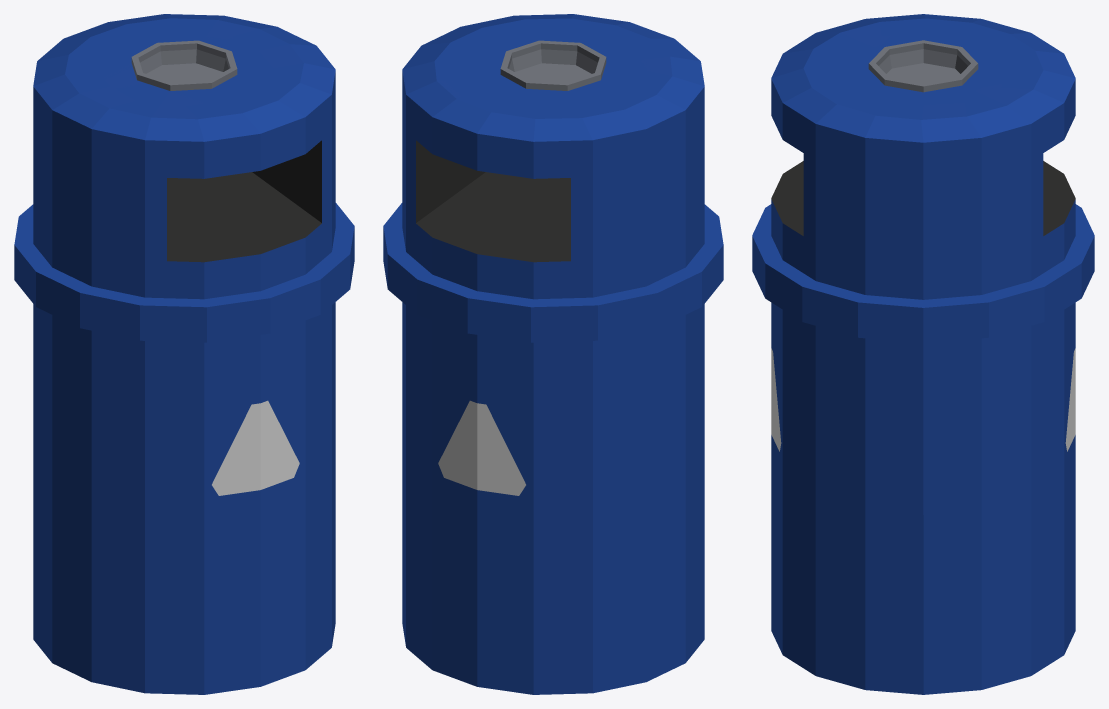
Rendered from binBlue.fbx.
3 renders of one model, left to right at view 1: azimuth 30°, elevation 25°; view 2: azimuth 150°, elevation 25°; view 3: azimuth 270°, elevation 25°, orthographic.
Visible parts, largest first — view 1: binBlue; view 2: binBlue; view 3: binBlue.
Boxes of the visible parts, bbox=[...] form: binBlue: bbox=[14, 14, 354, 694]; binBlue: bbox=[383, 14, 723, 694]; binBlue: bbox=[752, 14, 1094, 694].
Bounding box in the file's own units: 56.23 × 103 × 56.23.
1 material, 1 textured.
